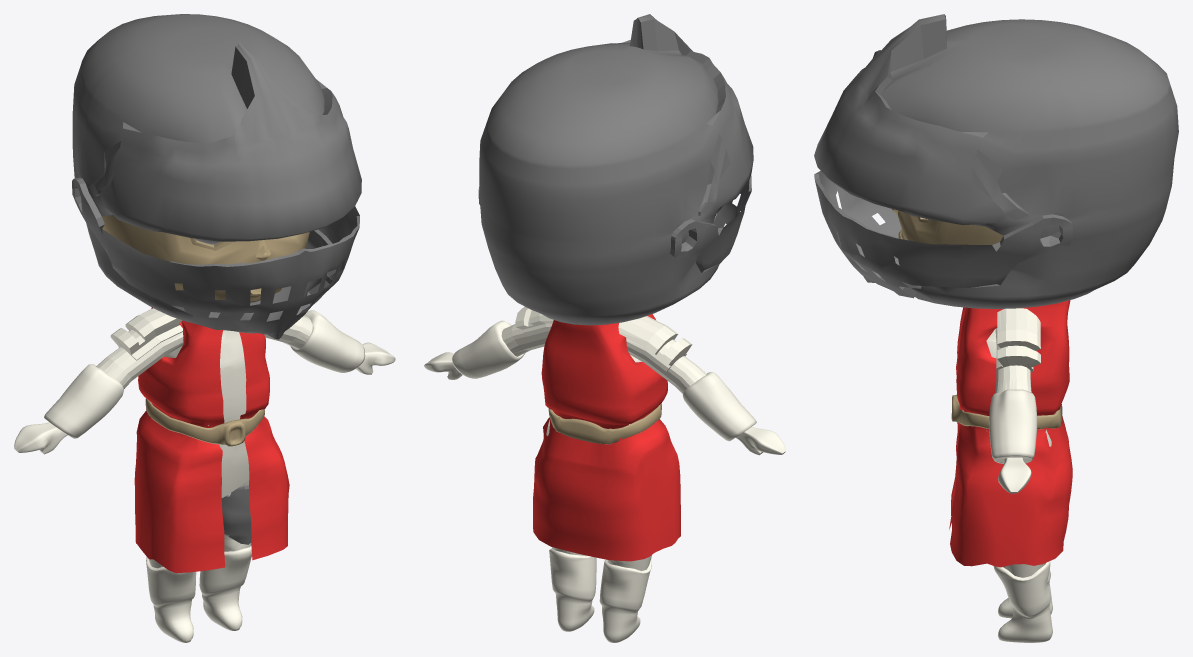
File: PersonajeEstático.fbx
3 views of the same model, side by side, from view 1: azimuth 30°, elevation 25°; view 2: azimuth 150°, elevation 25°; view 3: azimuth 270°, elevation 25° (orthographic). The views are drawn at different scales.
Parts seen in each view (by area): view 1: Casco, Falda, Cuerpo, Cabeza, Cinturao, Rodillera; view 2: Casco, Falda, Cuerpo, Cinturao; view 3: Casco, Falda, Cuerpo, Cabeza, Cinturao.
Part boxes in pixels (x1,y1,x2,y2): Casco: (72,14,361,339); Falda: (134,307,289,573); Cuerpo: (14,308,395,642); Cabeza: (102,215,309,302); Cinturao: (145,398,264,446); Rodillera: (221,485,251,544); Casco: (478,14,753,325); Falda: (533,314,680,561); Cuerpo: (424,307,785,642); Cinturao: (548,403,661,444); Casco: (814,14,1178,308); Falda: (949,300,1072,567); Cuerpo: (986,308,1052,642); Cabeza: (892,209,1003,244); Cinturao: (951,394,1062,429).
Size of the model in its own units: 53.19 by 82.6 by 44.52.
